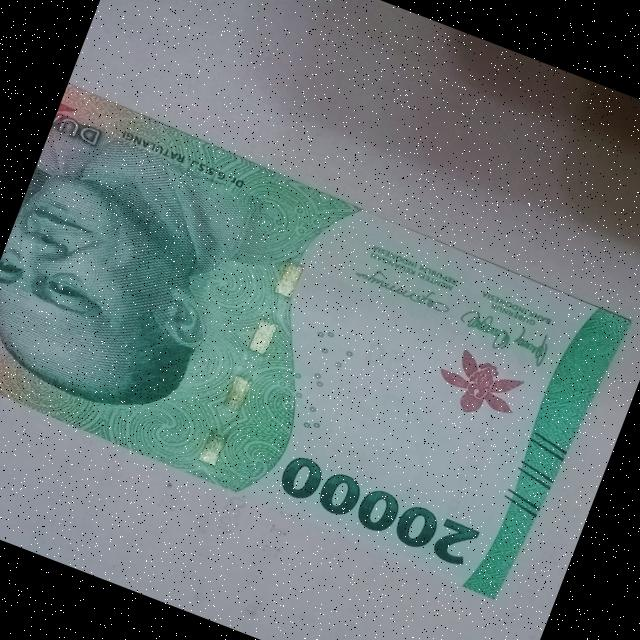20K: (0, 73, 640, 622)
